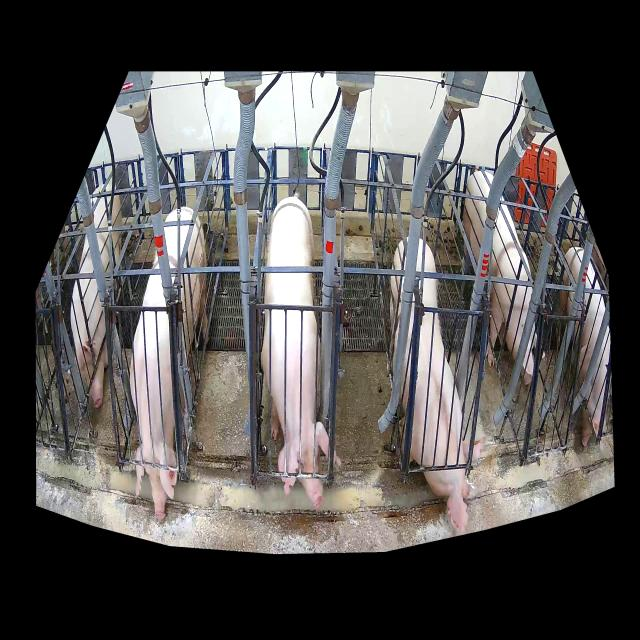pig: (389, 236, 485, 533), (130, 208, 208, 520), (262, 197, 329, 509), (460, 171, 537, 385), (71, 184, 123, 409), (560, 249, 611, 447)
